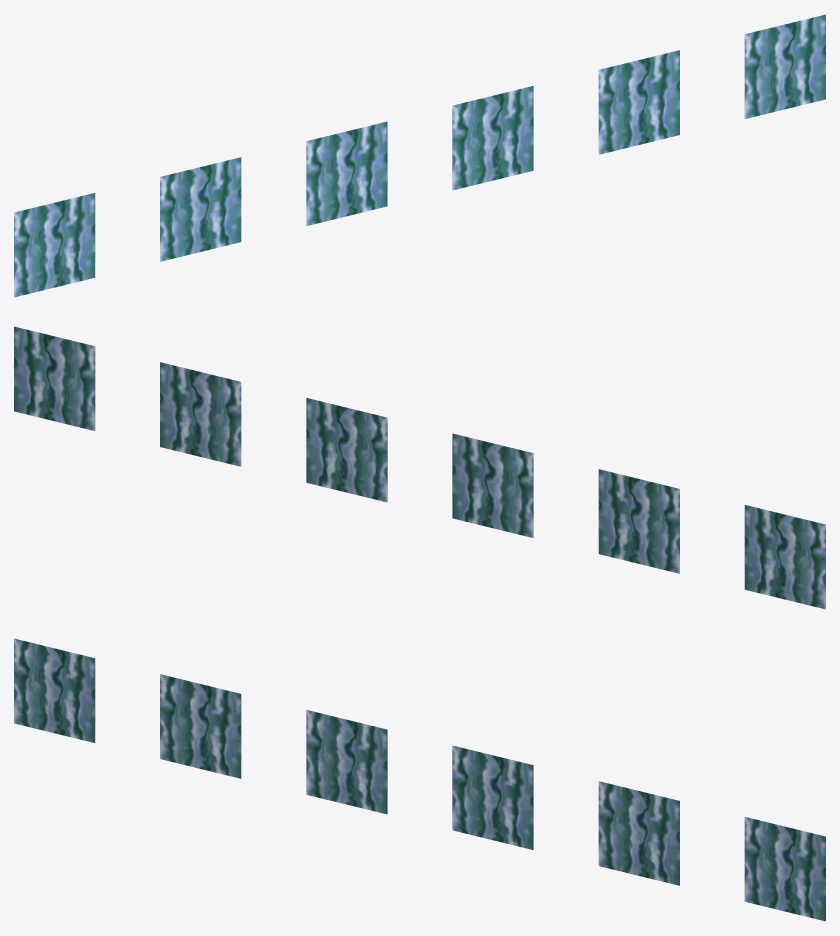
The model's file is seaabove.glb.
3 views of the same model, one above another, from view 1: azimuth 30°, elevation 25°; view 2: azimuth 150°, elevation 25°; view 3: azimuth 330°, elevation 25° (orthographic).
Visible parts, largest first — view 1: Bubbleweed, DropletGrass, KelpRibbon, LilyPad, CoralFan, SpawnGlow; view 2: Bubbleweed, DropletGrass, KelpRibbon, LilyPad, CoralFan, SpawnGlow; view 3: Bubbleweed, DropletGrass, KelpRibbon, LilyPad, CoralFan, SpawnGlow.
Boxes of the visible parts, <box> form: Bubbleweed: <box>160,157,241,261</box>; DropletGrass: <box>598,50,679,154</box>; KelpRibbon: <box>14,193,95,297</box>; LilyPad: <box>306,121,387,225</box>; CoralFan: <box>452,86,533,190</box>; SpawnGlow: <box>744,14,825,118</box>; Bubbleweed: <box>598,469,679,573</box>; DropletGrass: <box>160,362,241,466</box>; KelpRibbon: <box>744,505,825,609</box>; LilyPad: <box>452,433,533,537</box>; CoralFan: <box>306,398,387,502</box>; SpawnGlow: <box>14,326,95,430</box>; Bubbleweed: <box>160,674,241,778</box>; DropletGrass: <box>598,781,679,885</box>; KelpRibbon: <box>14,638,95,742</box>; LilyPad: <box>306,710,387,814</box>; CoralFan: <box>452,745,533,849</box>; SpawnGlow: <box>744,817,825,921</box>.
Bounding box in the file's own units: 10 × 1 × 0.
6 materials, 6 textured.
